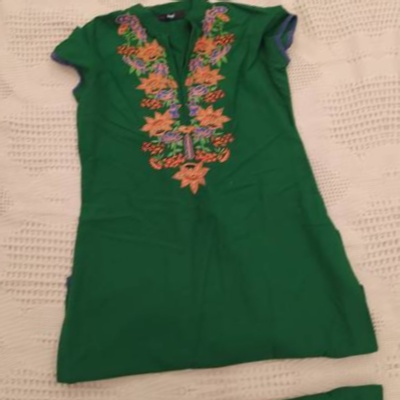Dress: (5, 0, 379, 396), (52, 378, 400, 400)
